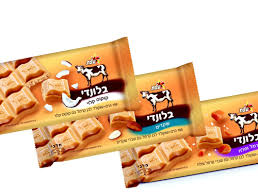Chocolate: (27, 58, 215, 166), (106, 88, 258, 179), (3, 37, 141, 128)
